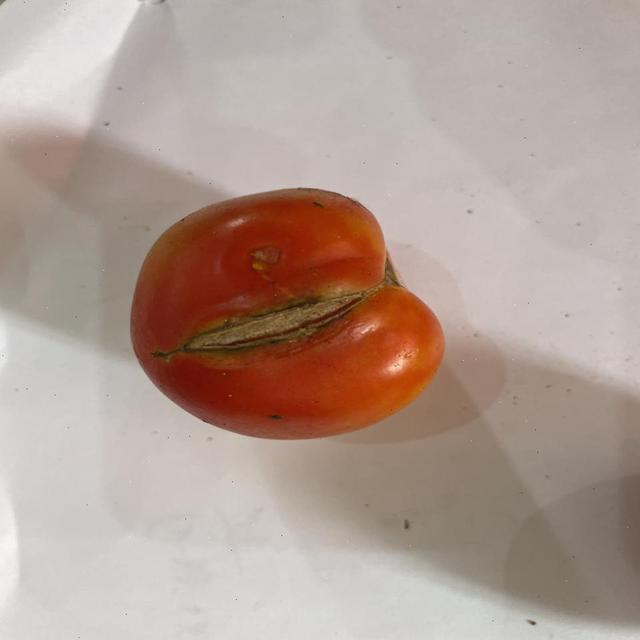Cracking Fruit: (85, 124, 303, 346)
